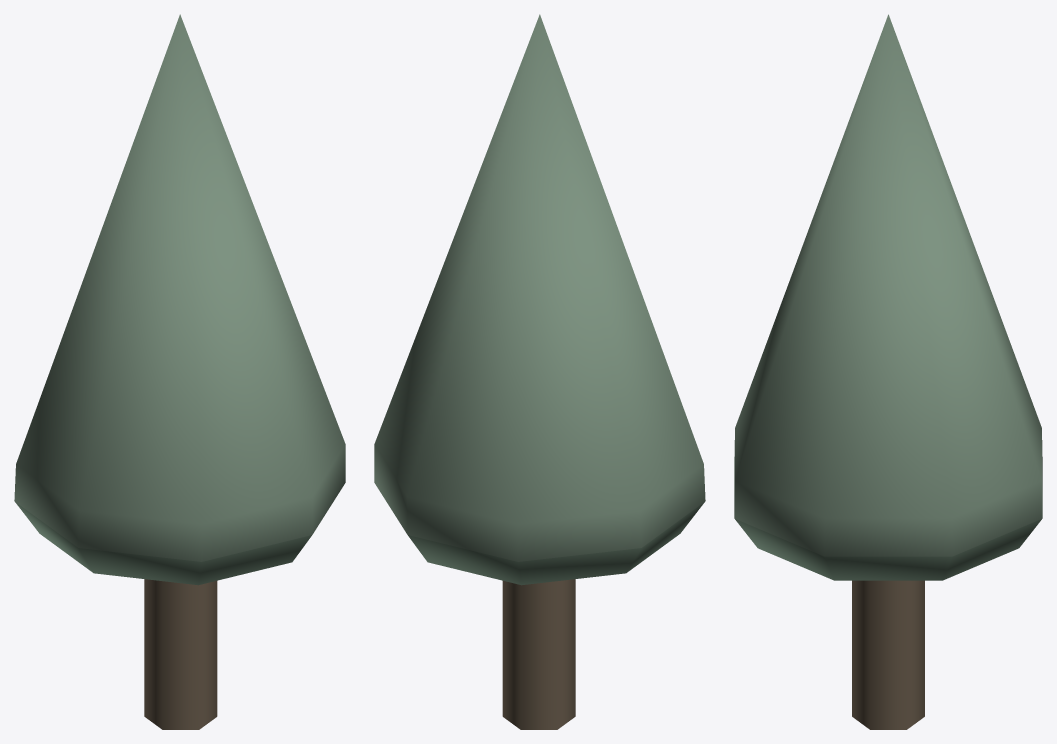
Rendered from RW_HG_Environment_Tree_Pine.002.fbx.
3 views of the same model, side by side, from view 1: azimuth 30°, elevation 25°; view 2: azimuth 150°, elevation 25°; view 3: azimuth 270°, elevation 25° (orthographic).
Parts seen in each view (by area): view 1: RW_HG_Environment_Tree_Pine.002; view 2: RW_HG_Environment_Tree_Pine.002; view 3: RW_HG_Environment_Tree_Pine.002.
Boxes of the visible parts, x1,y1,x2,y2 form: RW_HG_Environment_Tree_Pine.002: (14, 14, 345, 729); RW_HG_Environment_Tree_Pine.002: (374, 14, 705, 729); RW_HG_Environment_Tree_Pine.002: (734, 14, 1042, 729).
Bounding box in the file's own units: 0.4737 × 1.19 × 0.4735.
